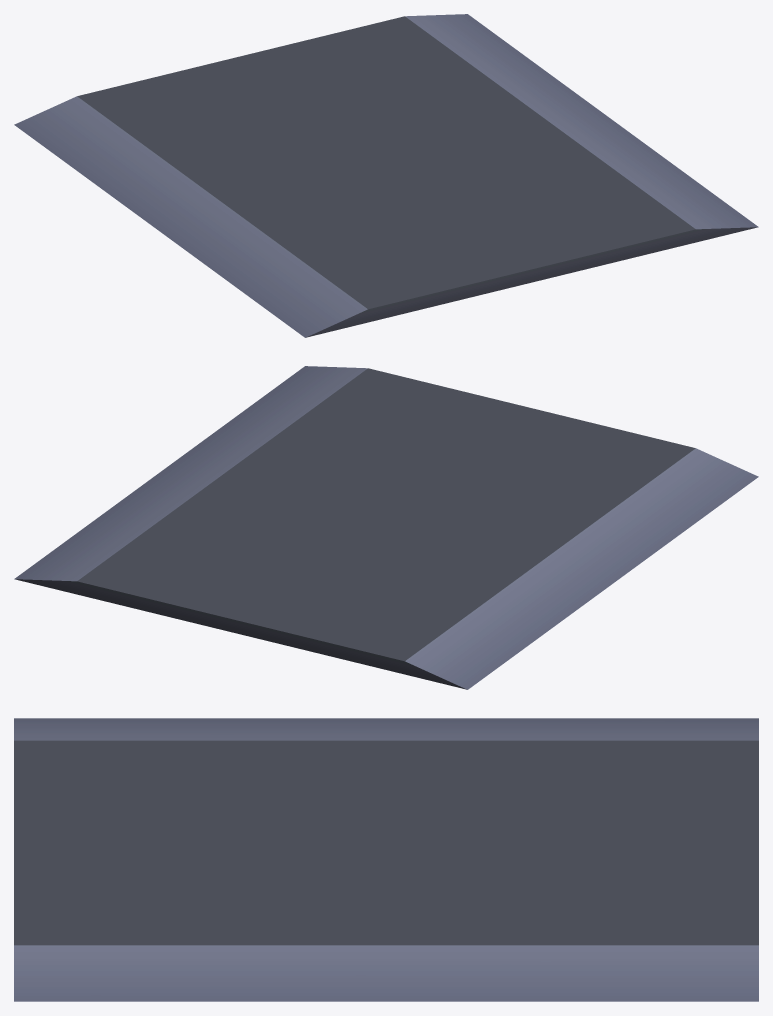
File: kenney-city-suburban-driveway-long.glb
The picture shows the model from 3 angles, top to bottom: view 1: azimuth 30°, elevation 25°; view 2: azimuth 150°, elevation 25°; view 3: azimuth 270°, elevation 25°; orthographic projection. The views are drawn at different scales.
Parts seen in each view (by area): view 1: driveway-long; view 2: driveway-long; view 3: driveway-long.
Part boxes in pixels (left/top/right/bottom): driveway-long: left=14, top=14, right=758, bottom=337; driveway-long: left=14, top=366, right=758, bottom=689; driveway-long: left=14, top=718, right=758, bottom=1001.
Size of the model in its own units: 0.36 by 0.01 by 0.4.
Materials: 1 (1 with a texture image).
